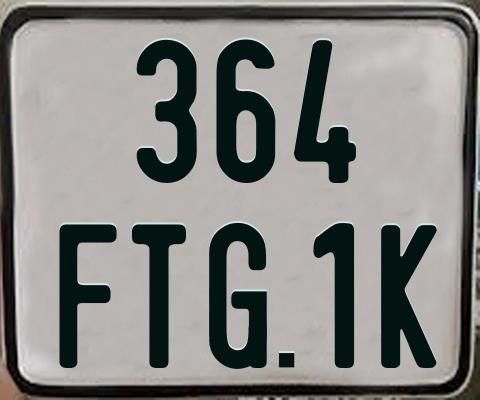1: (310, 222, 356, 372)
3: (135, 37, 198, 185)
4: (291, 38, 353, 187)
6: (216, 37, 276, 181)
F: (58, 223, 121, 372)
G: (207, 222, 267, 368)
K: (380, 222, 439, 367)
T: (130, 224, 184, 374)
